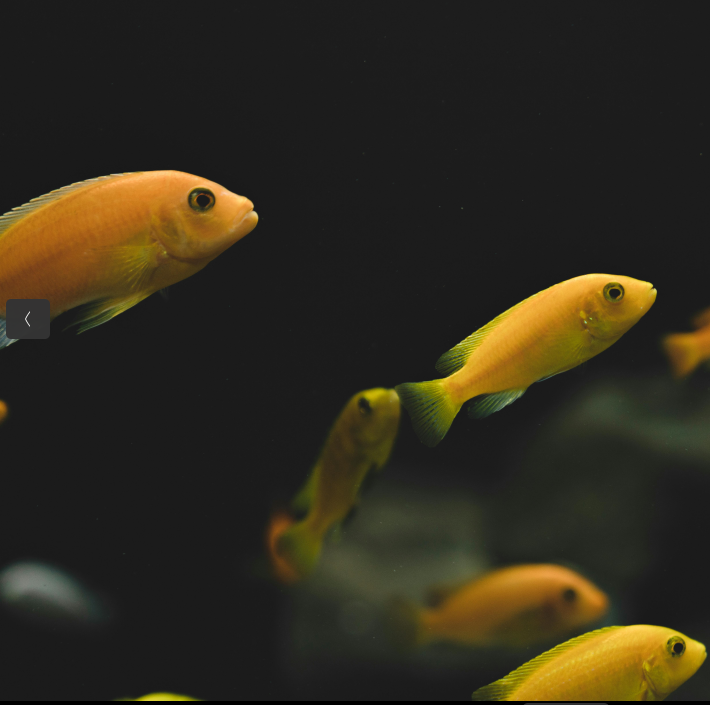fishSmall: (1, 168, 258, 350), (397, 271, 657, 450), (271, 386, 405, 580), (395, 562, 609, 654), (470, 622, 707, 703)
